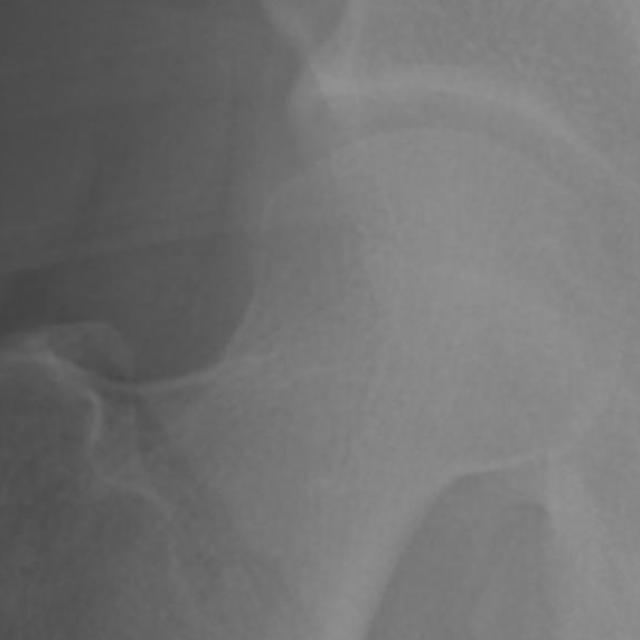Fitted_femural_head: (381, 129, 432, 381)
